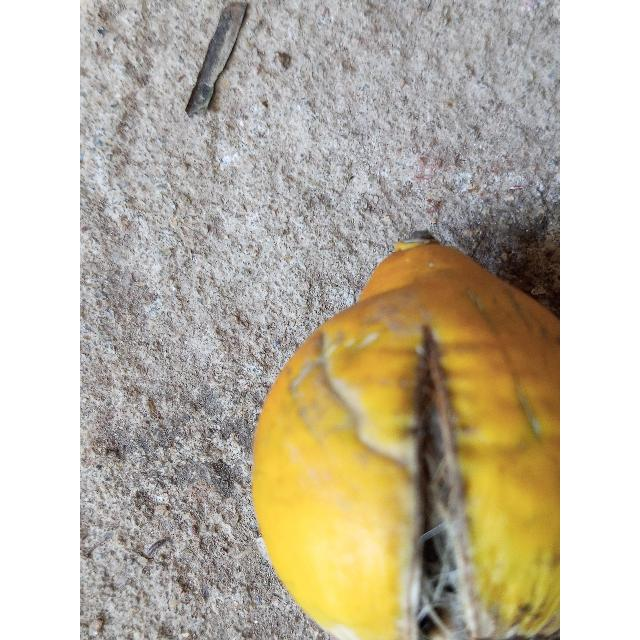damaged: (253, 231, 560, 640)
